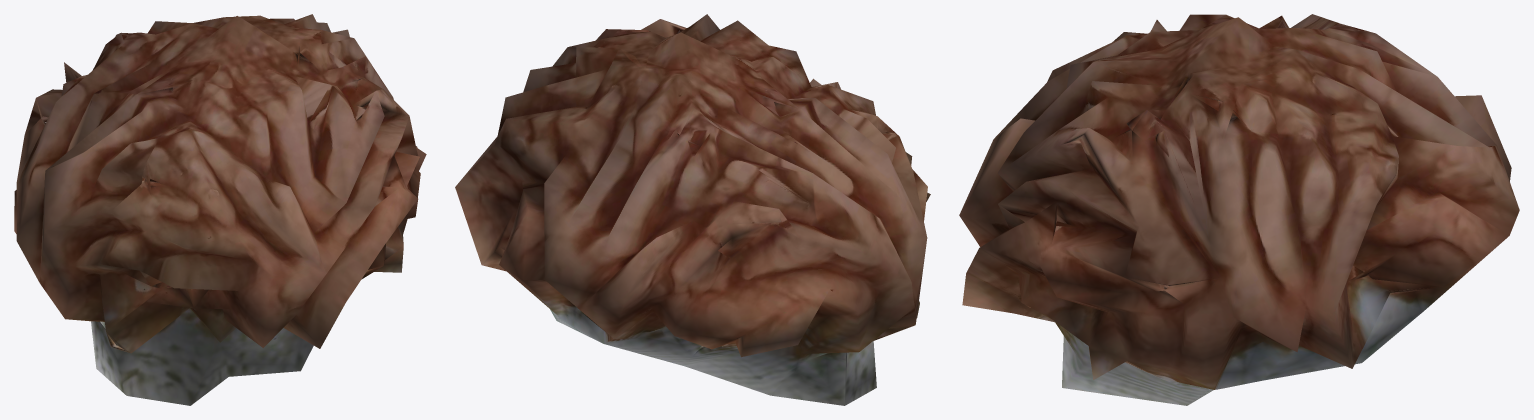
File: coral_01.glb
3 views of the same model, side by side, from view 1: azimuth 30°, elevation 25°; view 2: azimuth 150°, elevation 25°; view 3: azimuth 270°, elevation 25° (orthographic). The views are drawn at different scales.
Visible parts, largest first — view 1: mesh; view 2: mesh; view 3: mesh.
Part boxes in pixels (<box>): mesh: <box>14,14,426,405</box>; mesh: <box>455,14,930,405</box>; mesh: <box>959,14,1519,405</box>.
Bounding box in the file's own units: 1.01 × 0.7866 × 0.9982.
1 material, 1 textured.
